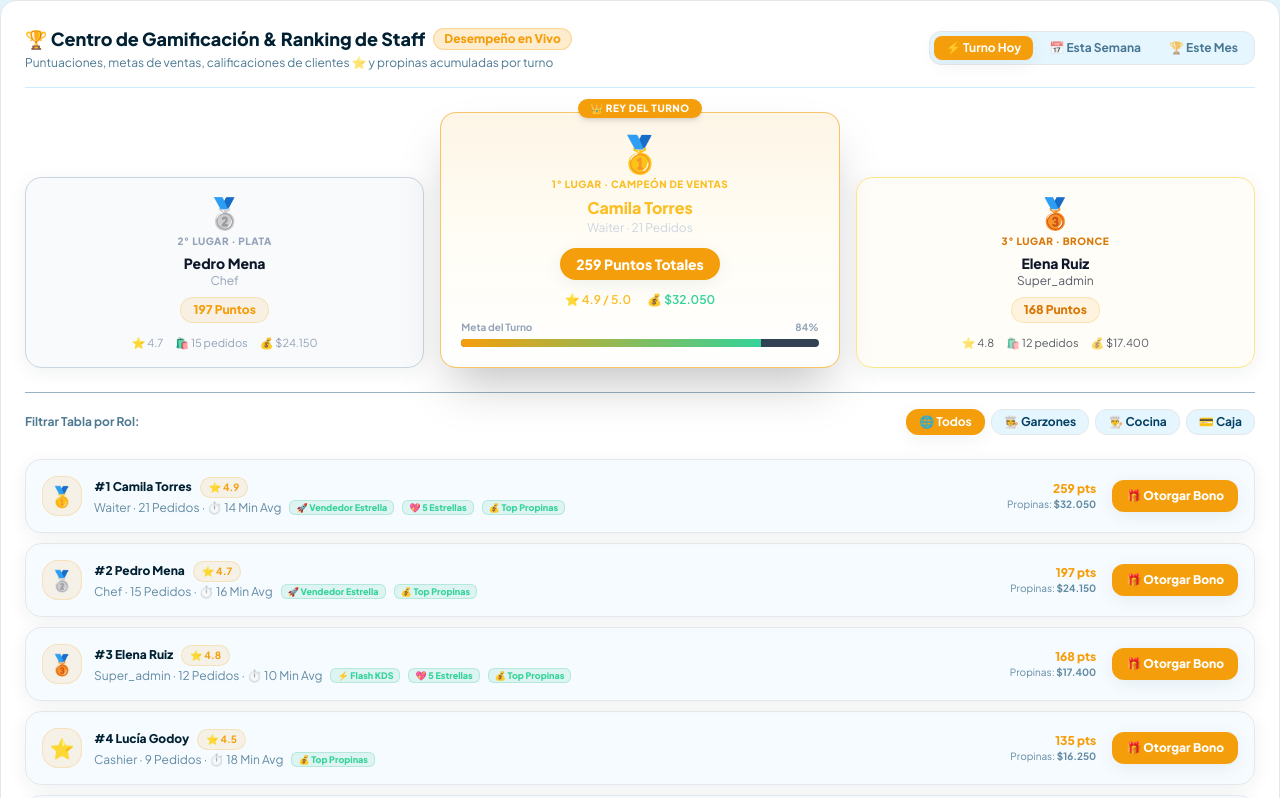
Test: StaffLeaderboard — Gamificación y Podio de Staff › permite filtrar por rol y hacer clic en Otorgar Bono
What coordinates should you click on to do the following:
click the button "🎁 Otorgar Bono" in the row of "14"
I would click on:
 (1175, 496)
Its box is x1=1112 y1=480 x2=1238 y2=512.
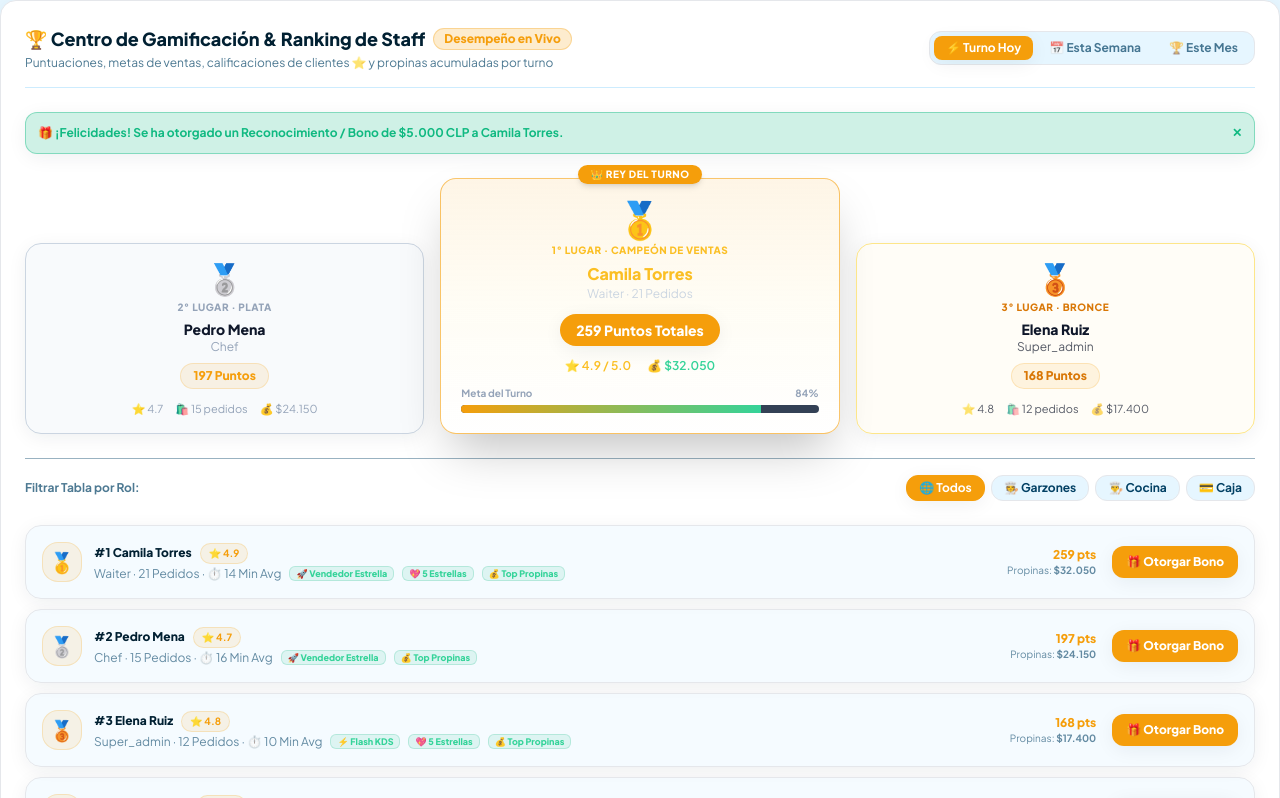
Result: the text "🎁 ¡Felicidades! Se ha otorgado un Reconocimiento" is shown at x1=38 y1=125 x2=564 y2=140
